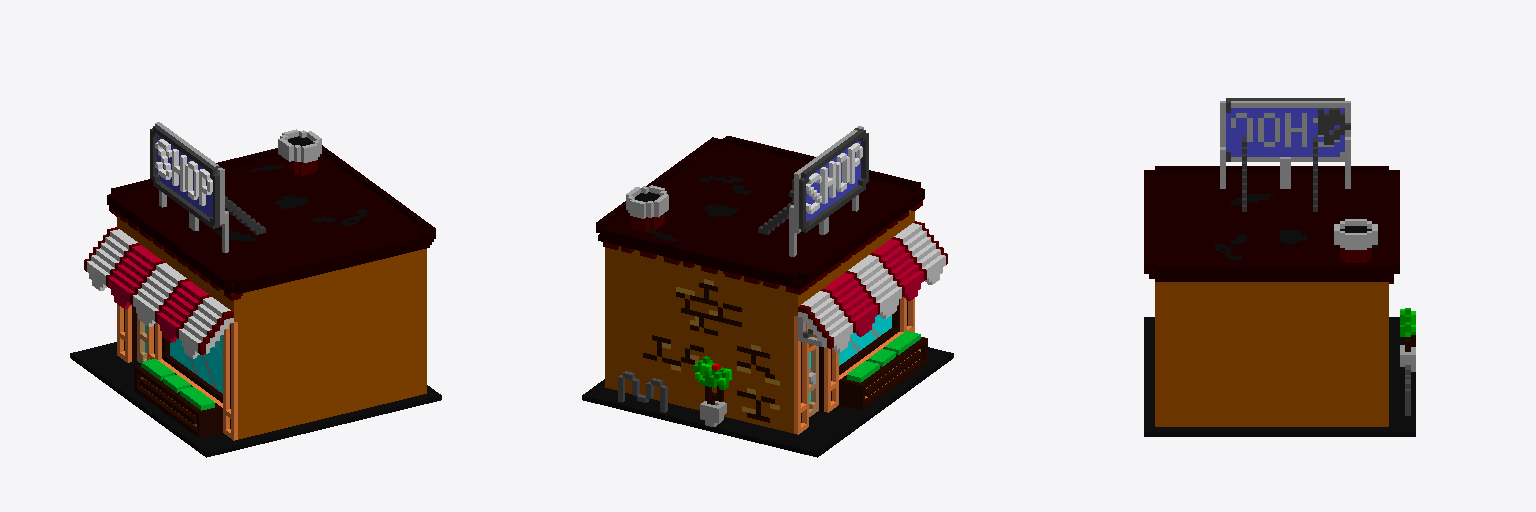
3 renders of one model, left to right at view 1: azimuth 30°, elevation 25°; view 2: azimuth 150°, elevation 25°; view 3: azimuth 270°, elevation 25°, orthographic.
Visible parts, largest first — view 1: object 1; view 2: object 1; view 3: object 1.
Boxes of the visible parts, x1=… form: object 1: x1=70, y1=122, x2=441, y2=457; object 1: x1=582, y1=126, x2=953, y2=457; object 1: x1=1144, y1=98, x2=1415, y2=436.
Bounding box in the file's own units: 5 × 5 × 5.
Materials: 1 (1 with a texture image).